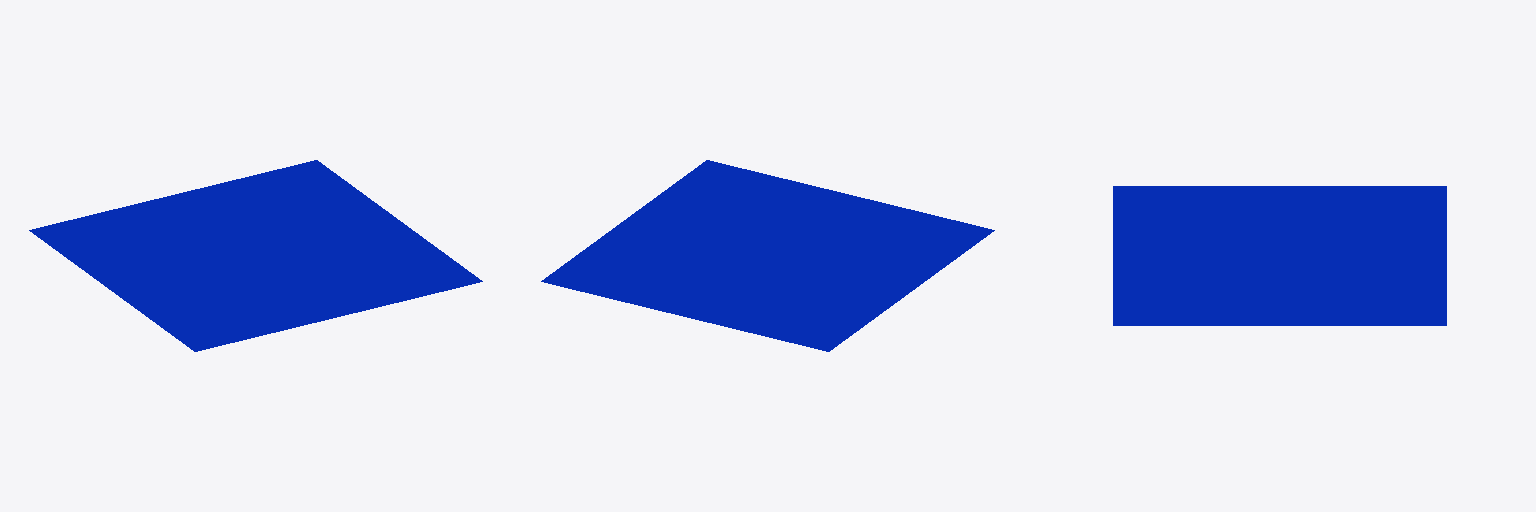
File: water.obj
3 renders of one model, left to right at view 1: azimuth 30°, elevation 25°; view 2: azimuth 150°, elevation 25°; view 3: azimuth 270°, elevation 25°, orthographic.
Visible parts, largest first — view 1: Water_water; view 2: Water_water; view 3: Water_water.
Boxes of the visible parts, <box> form: Water_water: <box>29,160,482,351</box>; Water_water: <box>541,160,994,351</box>; Water_water: <box>1113,186,1446,325</box>.
Bounding box in the file's own units: 39.84 × 0 × 39.84.